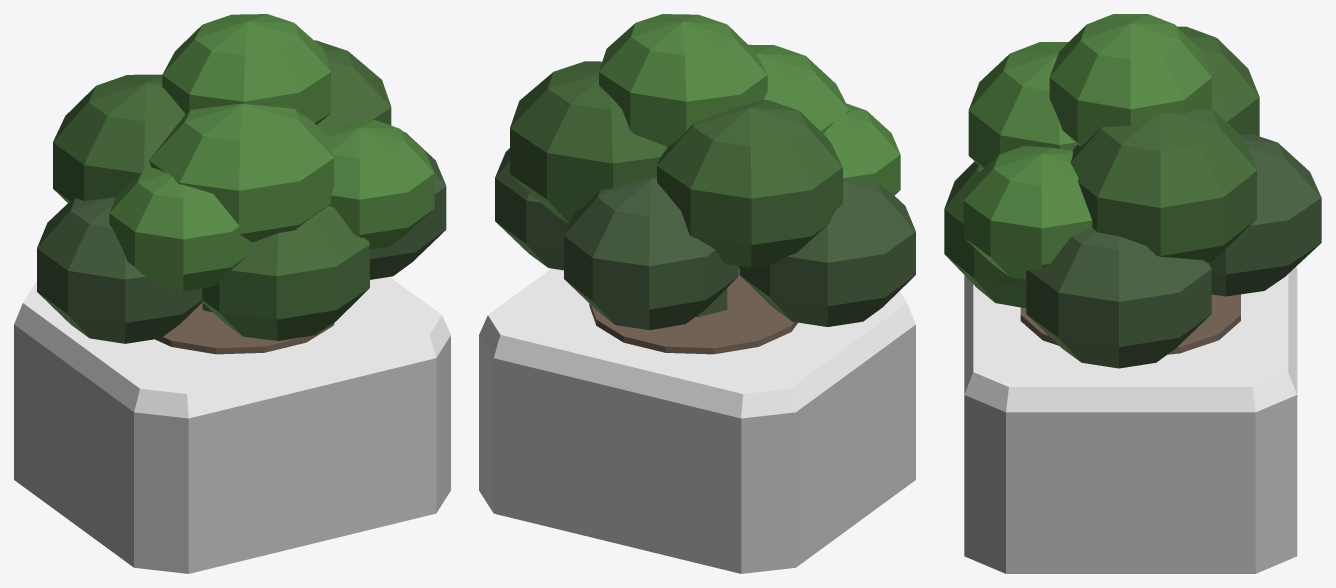
File: vge_faux_plant_c.obj
3 views of the same model, side by side, from view 1: azimuth 30°, elevation 25°; view 2: azimuth 150°, elevation 25°; view 3: azimuth 270°, elevation 25° (orthographic). The views are drawn at different scales.
Visible parts, largest first — view 1: vge_faux_plant_c_0, vge_faux_plant_c_1, vge_faux_plant_c_10, vge_faux_plant_c_6, vge_faux_plant_c_4, vge_faux_plant_c_11, vge_faux_plant_c_13, vge_faux_plant_c_8, vge_faux_plant_c_12, vge_faux_plant_c_9, vge_faux_plant_c_2, vge_faux_plant_c_5; view 2: vge_faux_plant_c_0, vge_faux_plant_c_1, vge_faux_plant_c_8, vge_faux_plant_c_7, vge_faux_plant_c_11, vge_faux_plant_c_9, vge_faux_plant_c_4, vge_faux_plant_c_2, vge_faux_plant_c_10, vge_faux_plant_c_13, vge_faux_plant_c_5; view 3: vge_faux_plant_c_0, vge_faux_plant_c_1, vge_faux_plant_c_9, vge_faux_plant_c_5, vge_faux_plant_c_11, vge_faux_plant_c_12, vge_faux_plant_c_7, vge_faux_plant_c_10, vge_faux_plant_c_6, vge_faux_plant_c_8, vge_faux_plant_c_2.
Boxes of the visible parts, <box> form: vge_faux_plant_c_0: <box>14,324,450,573</box>; vge_faux_plant_c_1: <box>14,277,450,418</box>; vge_faux_plant_c_10: <box>149,103,333,242</box>; vge_faux_plant_c_6: <box>202,206,369,340</box>; vge_faux_plant_c_4: <box>37,197,202,343</box>; vge_faux_plant_c_11: <box>162,14,330,124</box>; vge_faux_plant_c_13: <box>109,167,252,291</box>; vge_faux_plant_c_8: <box>53,74,184,202</box>; vge_faux_plant_c_12: <box>324,120,434,249</box>; vge_faux_plant_c_9: <box>314,40,391,130</box>; vge_faux_plant_c_2: <box>155,302,334,354</box>; vge_faux_plant_c_5: <box>370,132,446,279</box>; vge_faux_plant_c_0: <box>479,324,915,573</box>; vge_faux_plant_c_1: <box>479,268,915,418</box>; vge_faux_plant_c_8: <box>657,100,842,267</box>; vge_faux_plant_c_7: <box>564,176,738,329</box>; vge_faux_plant_c_11: <box>599,14,767,146</box>; vge_faux_plant_c_9: <box>510,61,667,223</box>; vge_faux_plant_c_4: <box>739,181,915,326</box>; vge_faux_plant_c_2: <box>589,268,797,354</box>; vge_faux_plant_c_10: <box>748,44,849,133</box>; vge_faux_plant_c_13: <box>823,103,900,195</box>; vge_faux_plant_c_5: <box>495,148,568,270</box>; vge_faux_plant_c_0: <box>964,395,1297,573</box>; vge_faux_plant_c_1: <box>964,267,1297,412</box>; vge_faux_plant_c_9: <box>1070,106,1256,262</box>; vge_faux_plant_c_5: <box>1026,228,1211,368</box>; vge_faux_plant_c_11: <box>1049,14,1211,145</box>; vge_faux_plant_c_12: <box>963,146,1092,279</box>; vge_faux_plant_c_7: <box>1209,133,1321,296</box>; vge_faux_plant_c_10: <box>968,42,1076,167</box>; vge_faux_plant_c_6: <box>944,161,1026,308</box>; vge_faux_plant_c_8: <box>1177,26,1259,136</box>; vge_faux_plant_c_2: <box>1020,294,1240,354</box>.
Size of the model in its own units: 0.786 by 0.8875 by 0.635.
